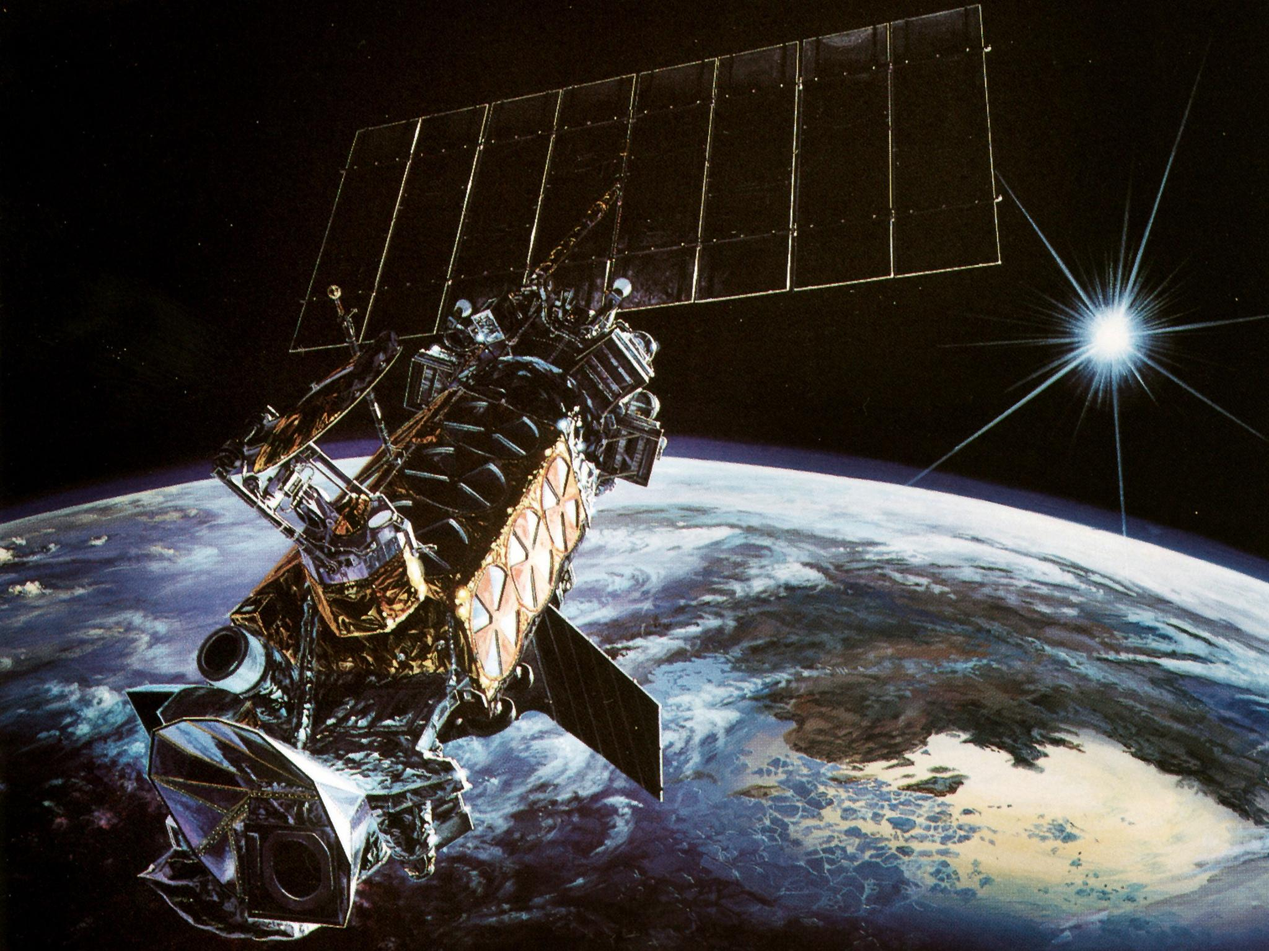body: (236, 290, 658, 731)
solar: (274, 2, 1013, 286), (534, 594, 668, 800)
